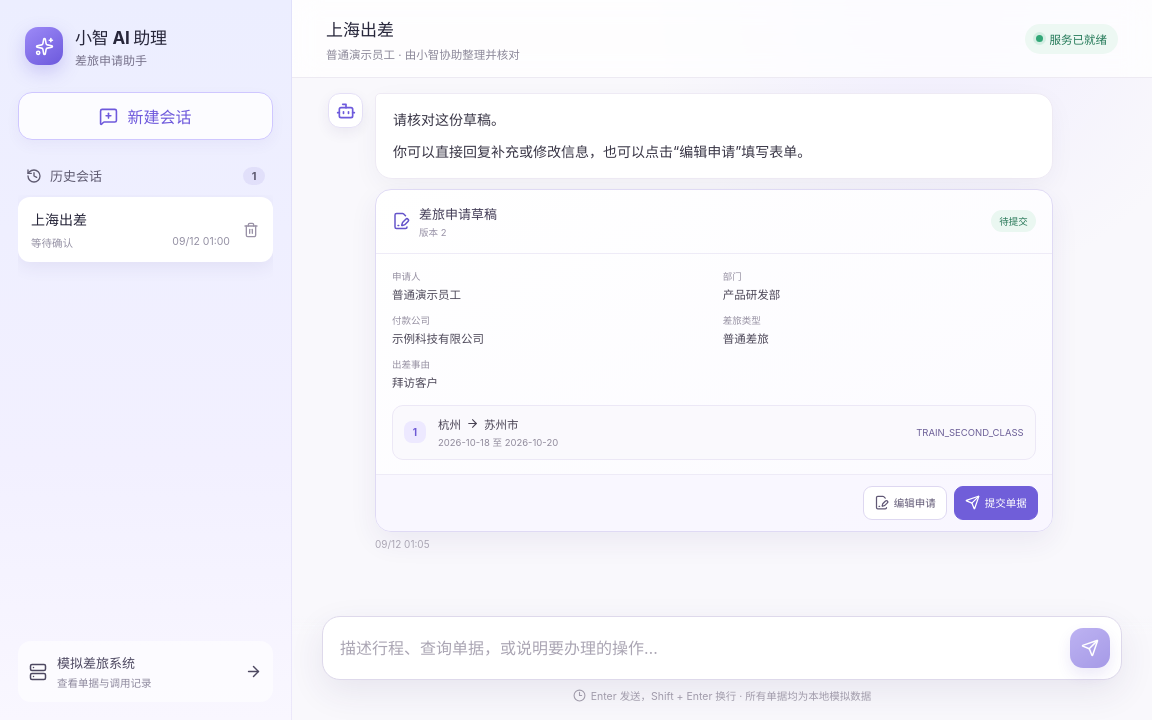
Test: 草稿编辑抽屉 › 卡片显示规范城市名，抽屉保留可编辑的原始地点
(page scrolled)
Expected: the element named "差旅申请草稿（当前版本）" shows "苏州市", 484,418 -> 518,432
Click the button "编辑申请": (905, 503) 863,486 -> 947,520
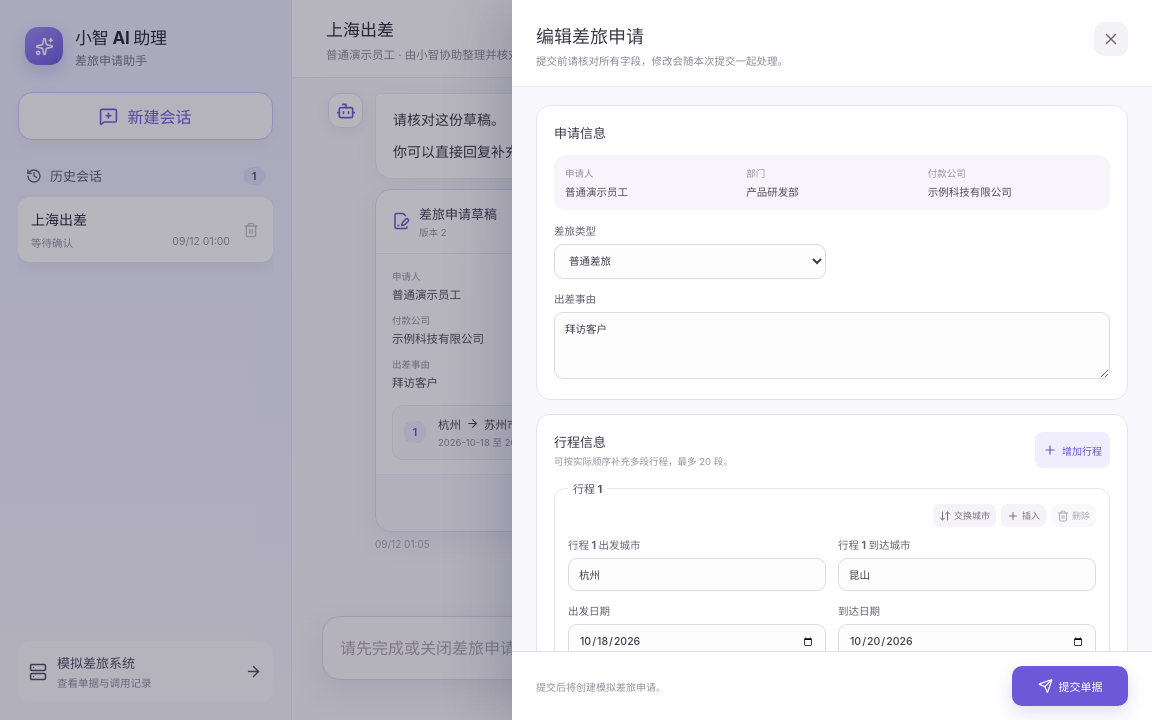
Expected: the field labelled "行程 1 到达城市" holds "昆山", 838,558 -> 1096,591
